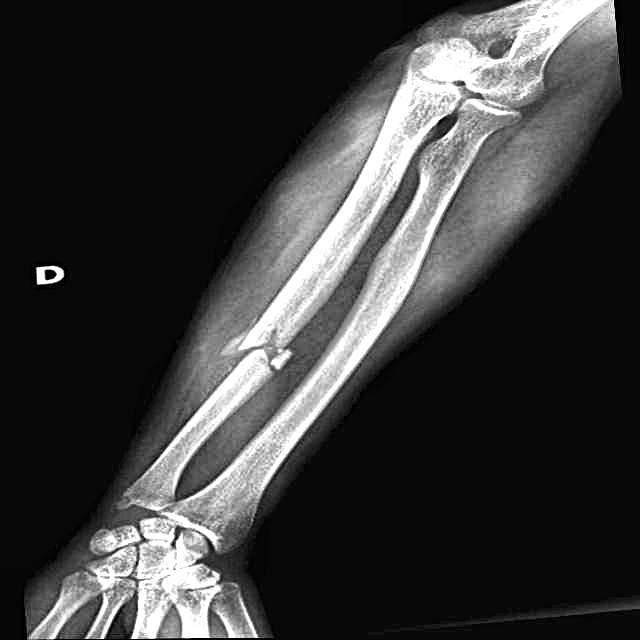Comminuted: (173, 311, 313, 392)
